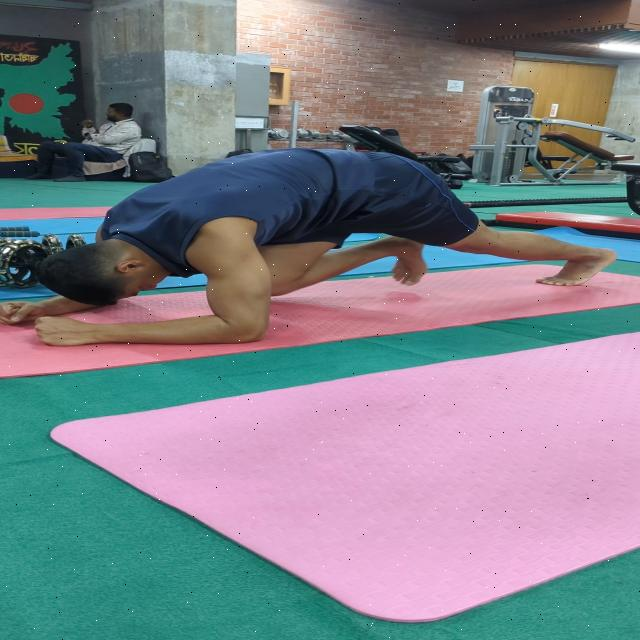Normal_MountainClimbers: (0, 140, 603, 353)
